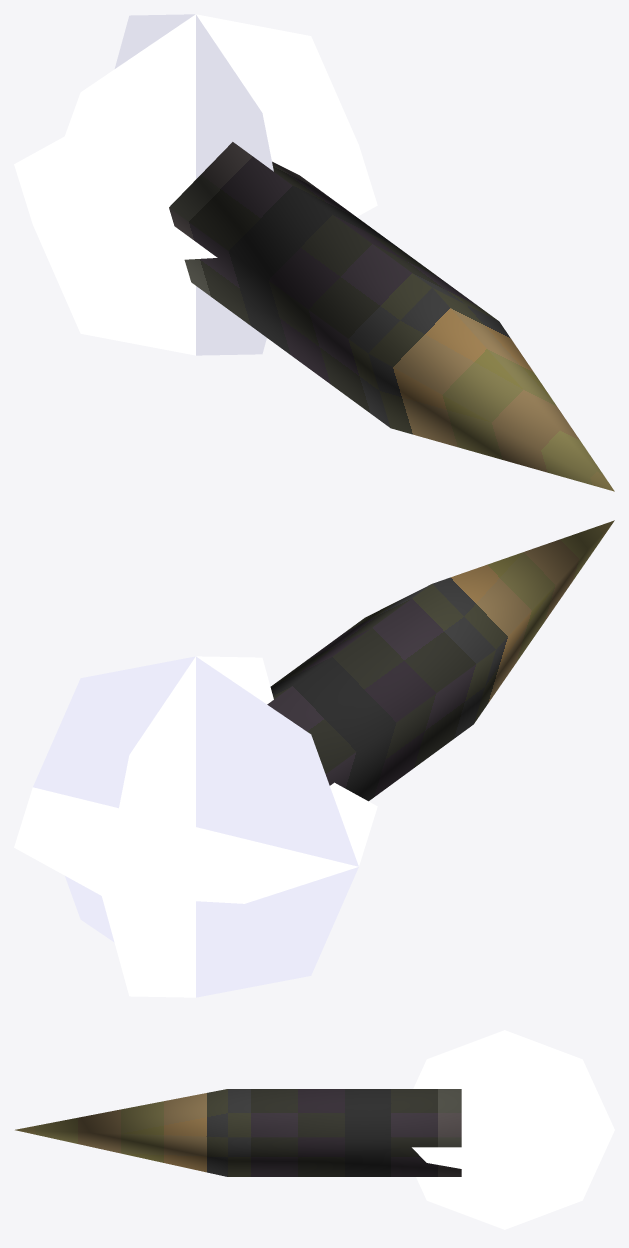
File: mp-obj042-rocket-heavy.glb
3 views of the same model, one above another, from view 1: azimuth 30°, elevation 25°; view 2: azimuth 150°, elevation 25°; view 3: azimuth 270°, elevation 25° (orthographic). The views are drawn at different scales.
Parts seen in each view (by area): view 1: Mp_obj_042; view 2: Mp_obj_042; view 3: Mp_obj_042.
Part boxes in pixels (left/top/right/bottom): Mp_obj_042: left=14, top=14, right=614, bottom=491; Mp_obj_042: left=14, top=520, right=614, bottom=997; Mp_obj_042: left=15, top=1030, right=614, bottom=1229.
Size of the model in its own units: 0.1992 by 0.1992 by 0.543.
Materials: 3 (2 with a texture image).
